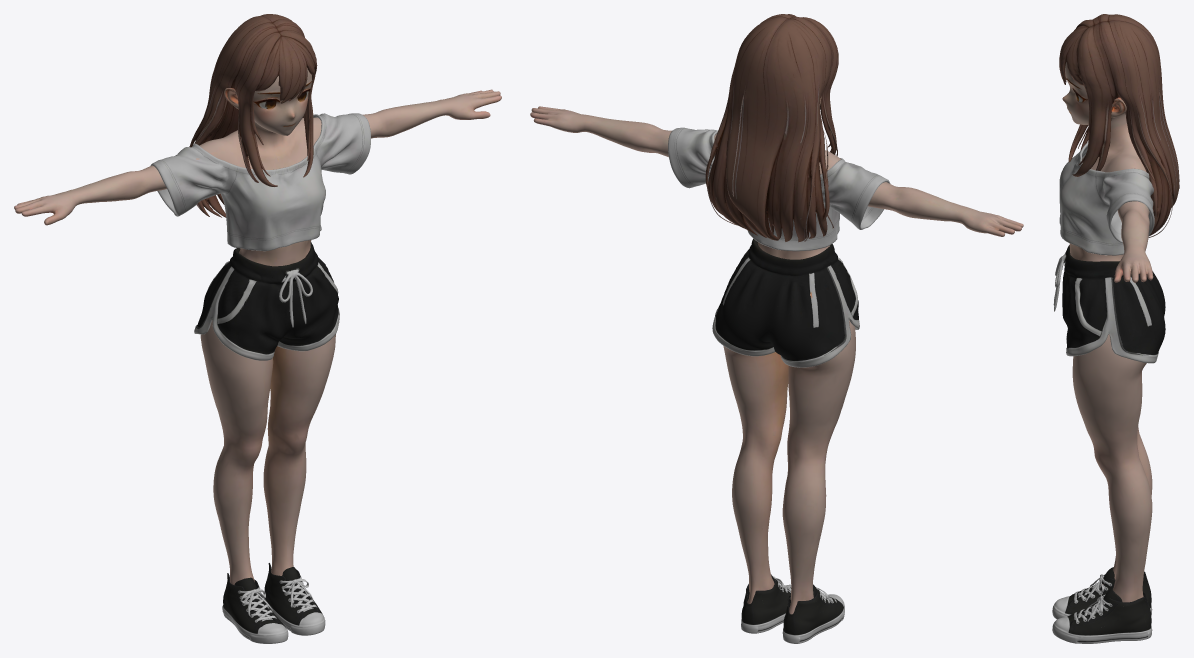
The model's file is hero.glb.
3 views of the same model, side by side, from view 1: azimuth 30°, elevation 25°; view 2: azimuth 150°, elevation 25°; view 3: azimuth 270°, elevation 25° (orthographic).
Parts seen in each view (by area): view 1: Object_10, Object_4, Object_6, Object_8, Object_13, Object_11; view 2: Object_10, Object_8, Object_6, Object_4, Object_13; view 3: Object_10, Object_8, Object_6, Object_4, Object_13, Object_11.
Part boxes in pixels (bbox=[...]): Object_10: bbox=[14, 89, 501, 584]; Object_4: bbox=[150, 113, 370, 251]; Object_6: bbox=[194, 242, 339, 360]; Object_8: bbox=[189, 14, 317, 217]; Object_13: bbox=[222, 563, 325, 643]; Object_11: bbox=[224, 68, 312, 135]; Object_10: bbox=[530, 106, 1023, 614]; Object_8: bbox=[705, 14, 838, 242]; Object_6: bbox=[712, 238, 859, 367]; Object_4: bbox=[668, 127, 890, 251]; Object_13: bbox=[741, 574, 844, 643]; Object_10: bbox=[1069, 125, 1153, 602]; Object_8: bbox=[1059, 14, 1179, 237]; Object_6: bbox=[1053, 245, 1165, 363]; Object_4: bbox=[1059, 142, 1154, 255]; Object_13: bbox=[1052, 567, 1152, 643]; Object_11: bbox=[1062, 62, 1127, 129].
Bounding box in the file's own units: 1.47 × 1.74 × 0.33.
6 materials, 6 textured.
